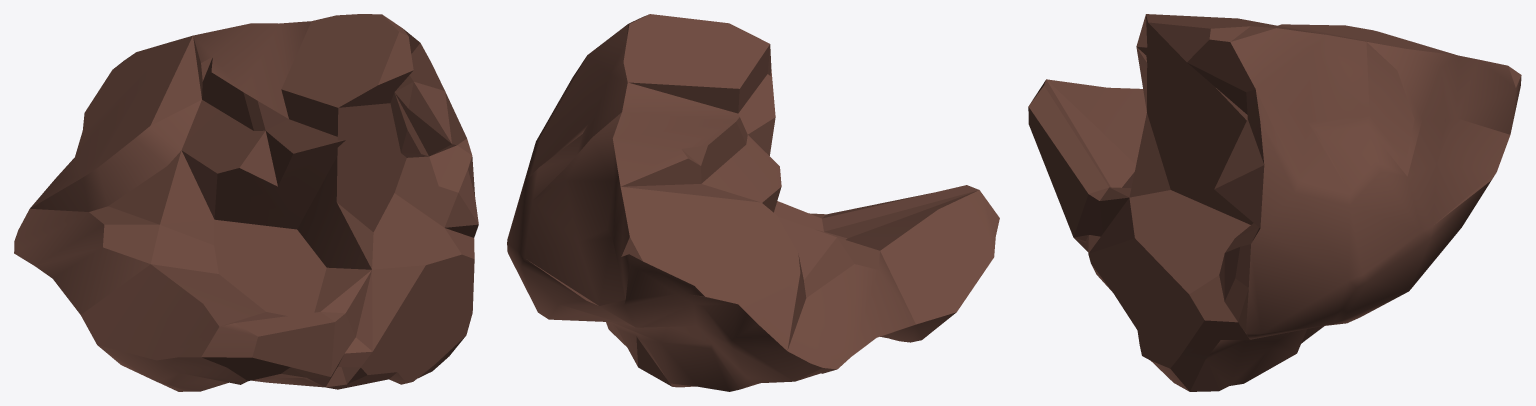
Rendered from p_mesh_hvs_stalagmite_large02_destruction_part05.fbx.
3 renders of one model, left to right at view 1: azimuth 30°, elevation 25°; view 2: azimuth 150°, elevation 25°; view 3: azimuth 270°, elevation 25°, orthographic. The views are drawn at different scales.
Visible parts, largest first — view 1: p_large02_part5; view 2: p_large02_part5; view 3: p_large02_part5.
Part boxes in pixels (x1,y1,x2,y2): p_large02_part5: (14, 14, 478, 391); p_large02_part5: (507, 14, 999, 391); p_large02_part5: (1028, 14, 1521, 391).
Size of the model in its own units: 8.48 by 7.12 by 8.62.
